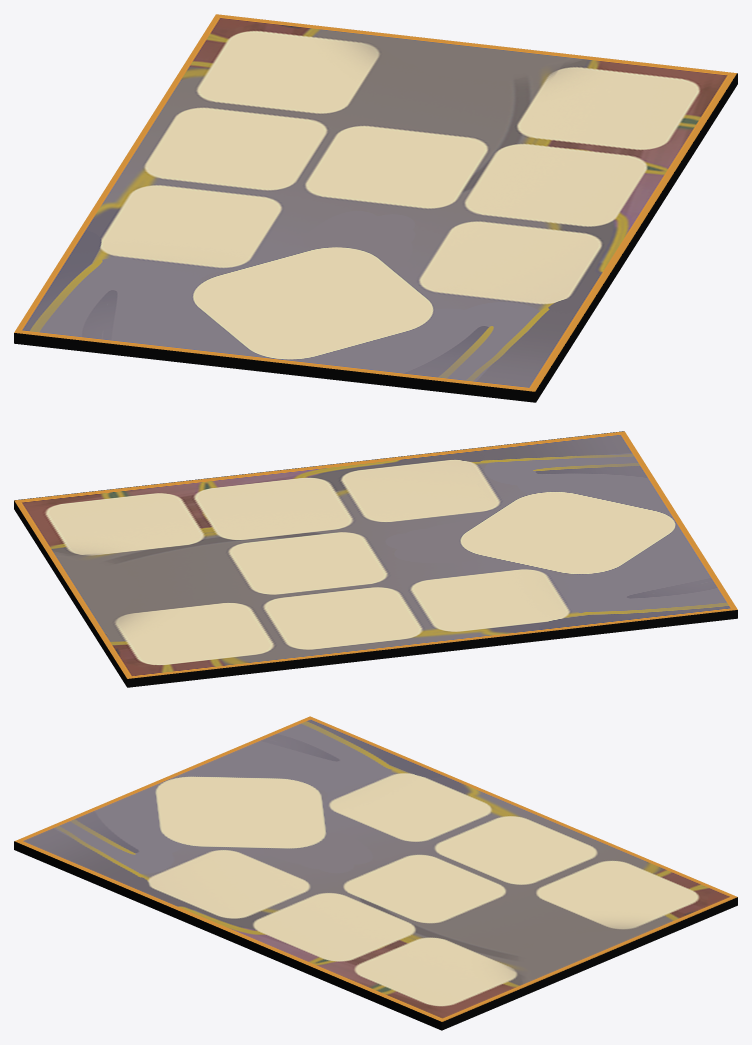
Rendered from sigil_slot_2.glb.
The picture shows the model from 3 angles, top to bottom: view 1: azimuth 30°, elevation 25°; view 2: azimuth 150°, elevation 25°; view 3: azimuth 270°, elevation 25°; orthographic projection. The views are drawn at different scales.
Parts seen in each view (by area): view 1: Sigil_slot_2; view 2: Sigil_slot_2; view 3: Sigil_slot_2.
Part boxes in pixels (x1,y1,x2,y2): Sigil_slot_2: [14, 14, 737, 402]; Sigil_slot_2: [14, 431, 737, 687]; Sigil_slot_2: [14, 716, 737, 1030].
Size of the model in its own units: 4.34 by 0.0557 by 4.34.
Materials: 1 (1 with a texture image).
